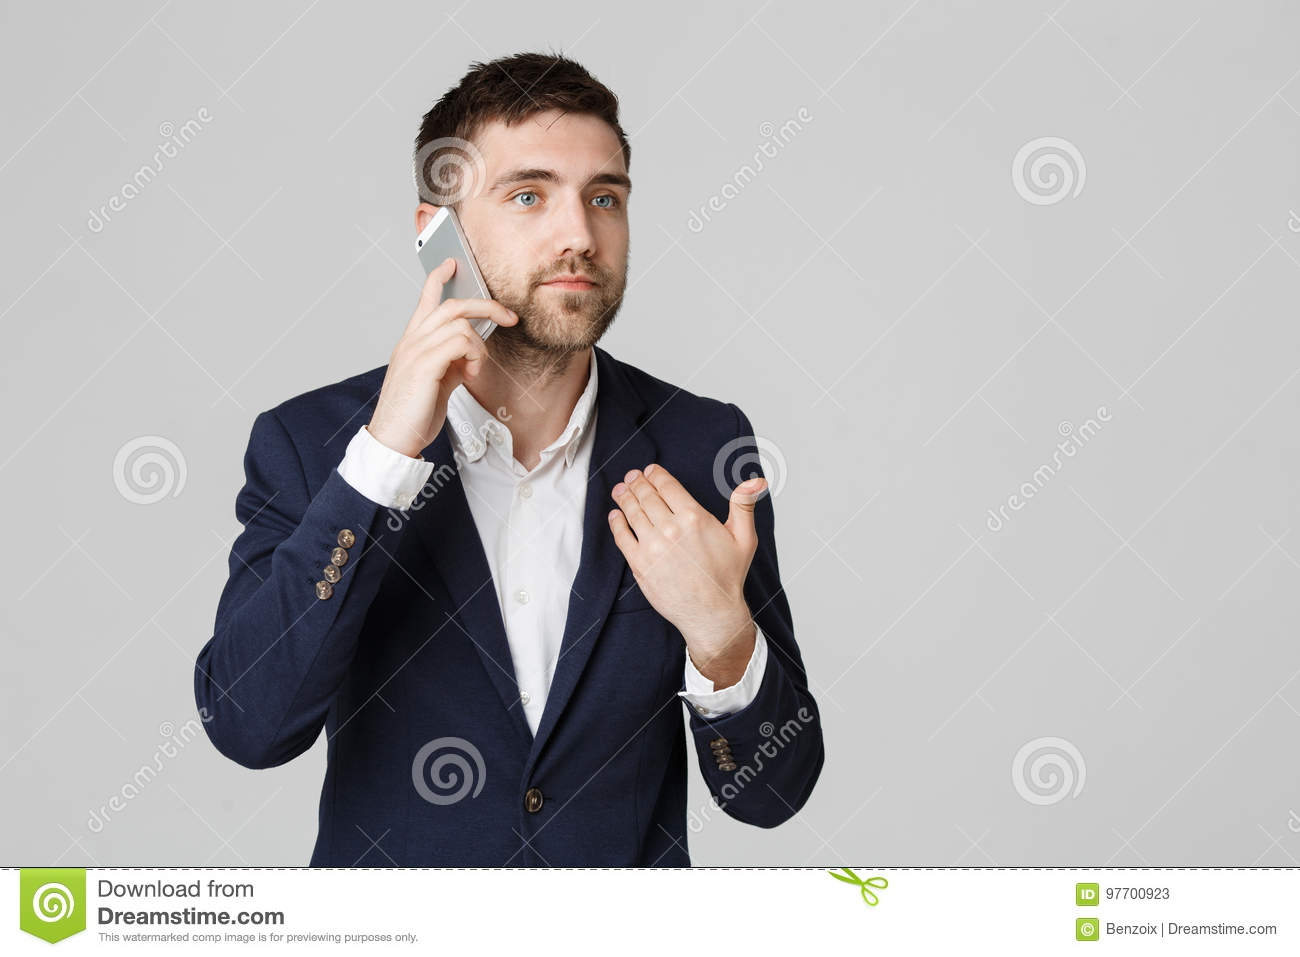phone: (411, 202, 498, 354)
talk: (374, 158, 630, 452)
